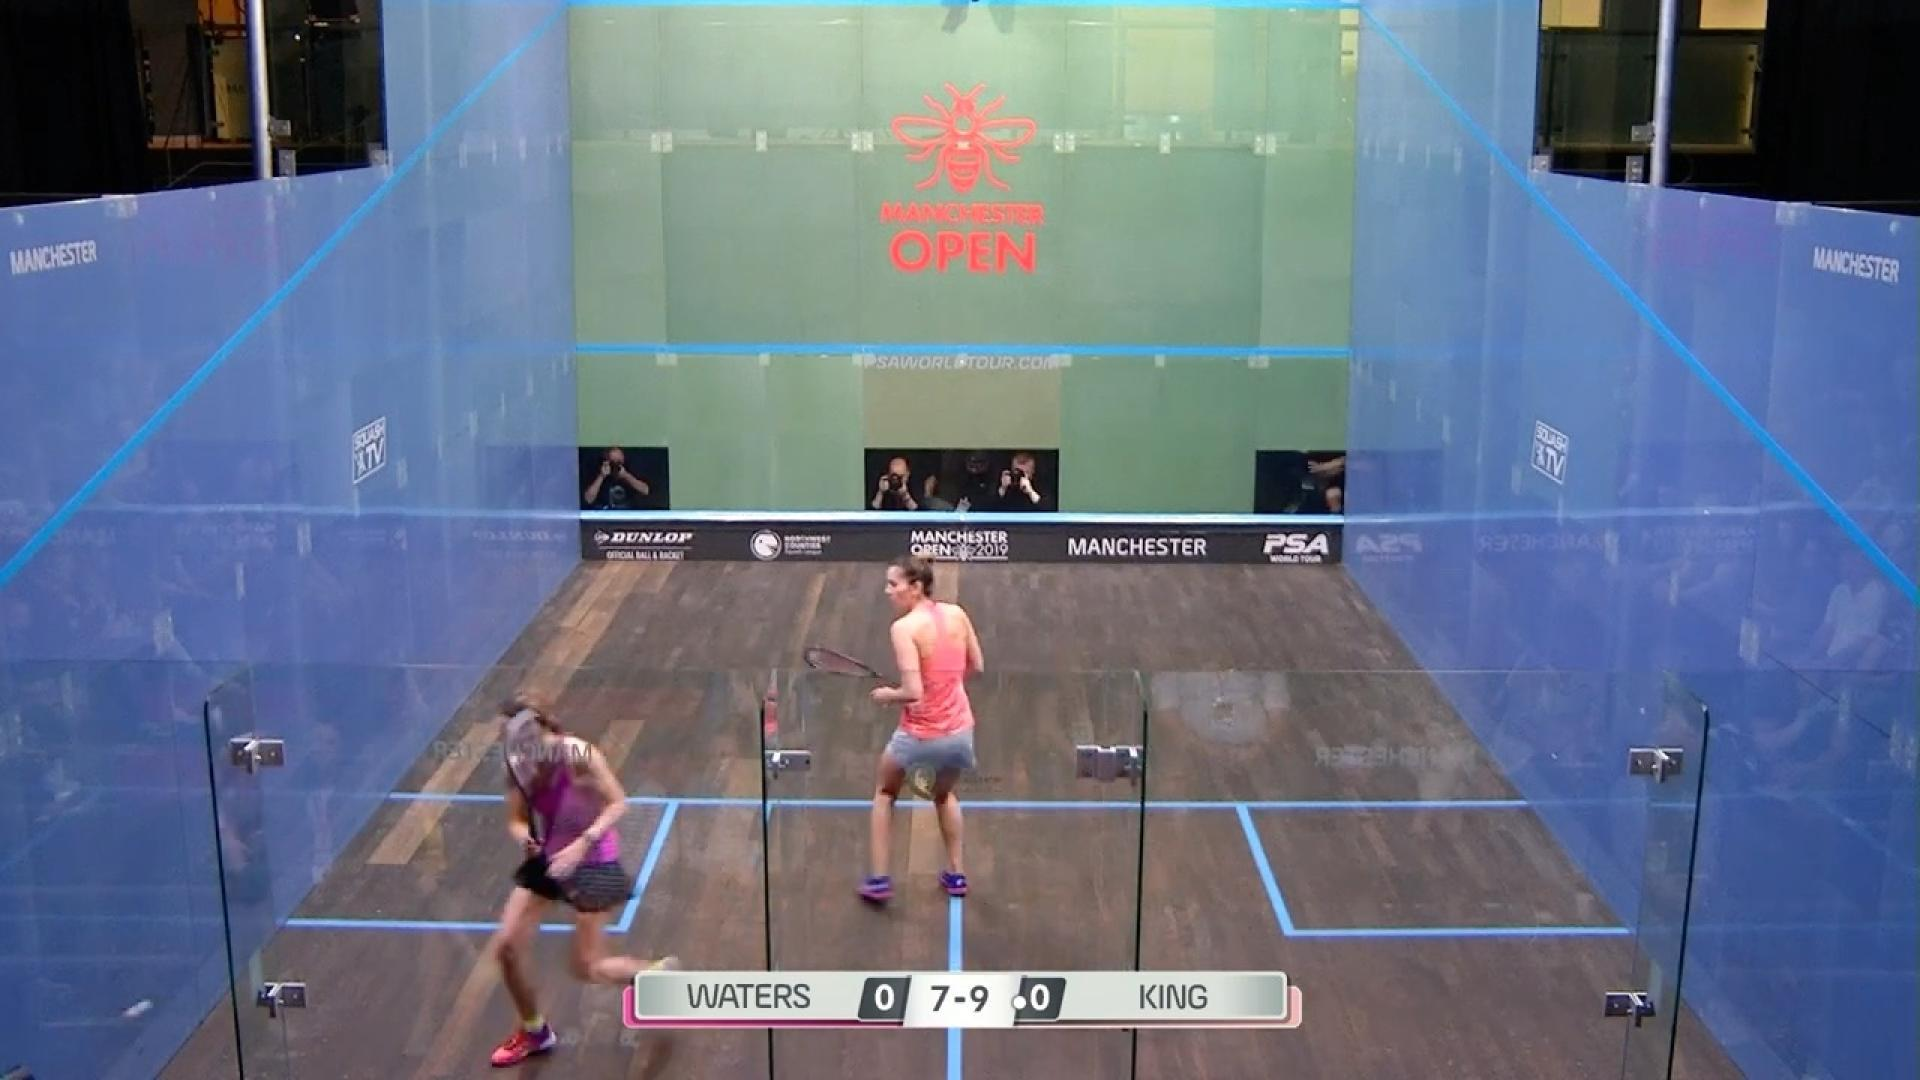Squash-Ball: (100, 988, 170, 1033)
